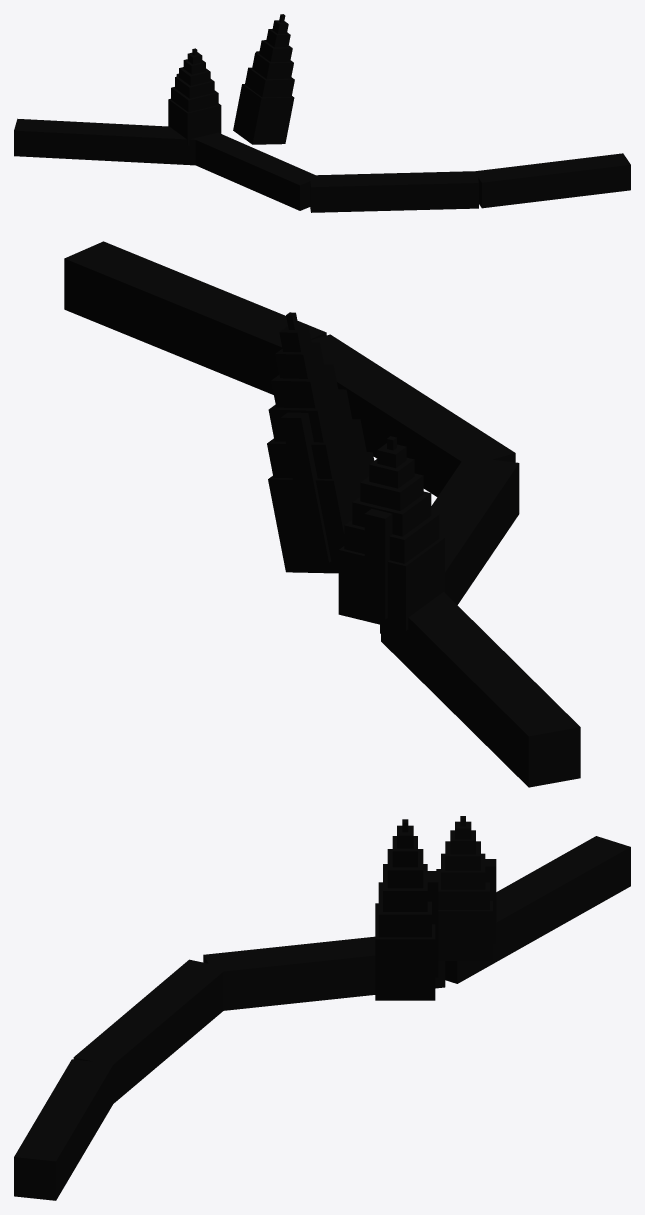
File: lab_slab_eroded_growth_top.obj
The picture shows the model from 3 angles, top to bottom: view 1: azimuth 30°, elevation 25°; view 2: azimuth 150°, elevation 25°; view 3: azimuth 270°, elevation 25°; orthographic projection. The views are drawn at different scales.
Bounding box in the file's own units: 0.8322 × 0.2506 × 0.6665.
